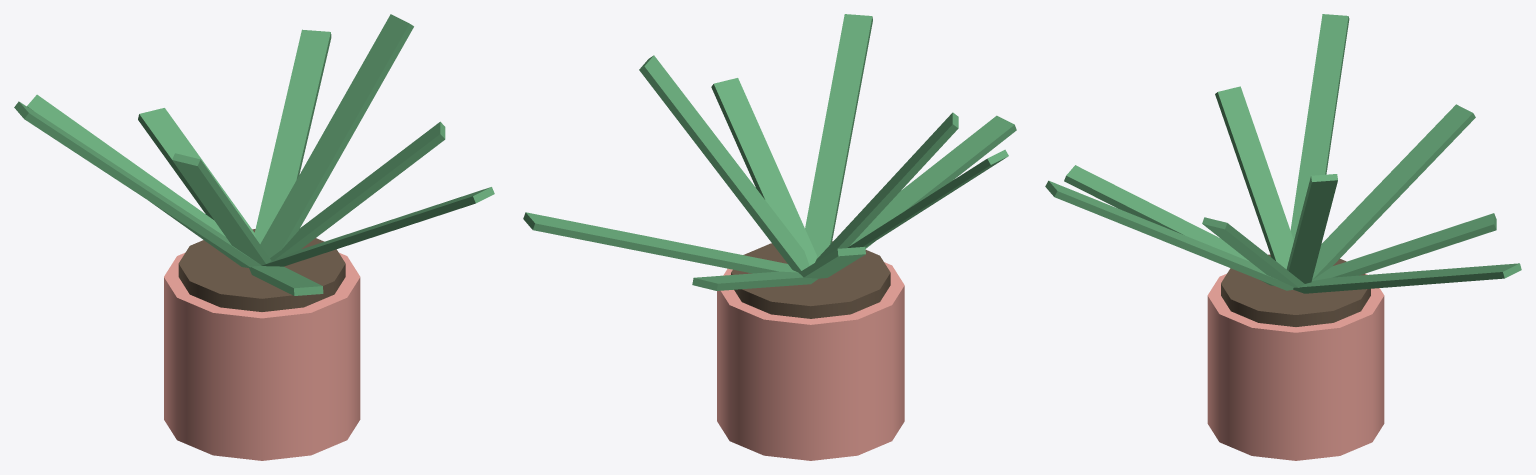
Rendered from bb_set_plantsmall.fbx.
3 renders of one model, left to right at view 1: azimuth 30°, elevation 25°; view 2: azimuth 150°, elevation 25°; view 3: azimuth 270°, elevation 25°, orthographic. The views are drawn at different scales.
Parts seen in each view (by area): view 1: bb_set_plantsmall; view 2: bb_set_plantsmall; view 3: bb_set_plantsmall.
Boxes of the visible parts, x1,y1,x2,y2 form: bb_set_plantsmall: [14, 14, 494, 460]; bb_set_plantsmall: [523, 14, 1016, 460]; bb_set_plantsmall: [1045, 14, 1521, 460].
Bounding box in the file's own units: 0.4794 × 0.3947 × 0.5391.
